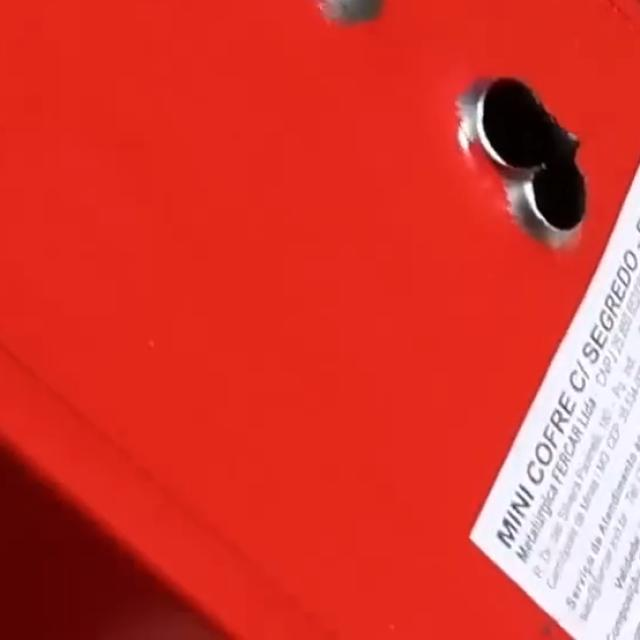bullets: (460, 71, 558, 170), (510, 156, 590, 245)
